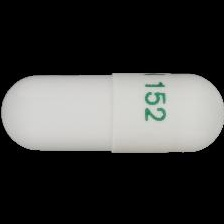54868-6173: (0, 0, 224, 224)
